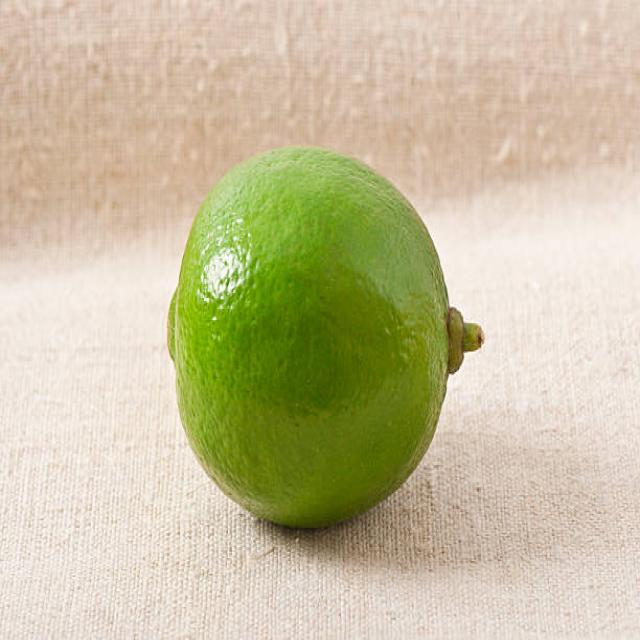Lemon: (165, 144, 485, 534)
